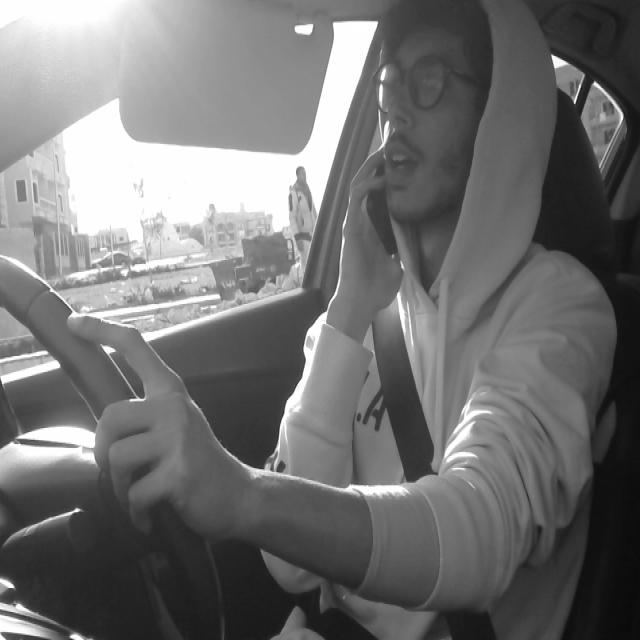mobile use: (365, 134, 427, 259)
